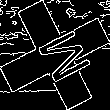M_SW: (22, 23, 88, 87)
